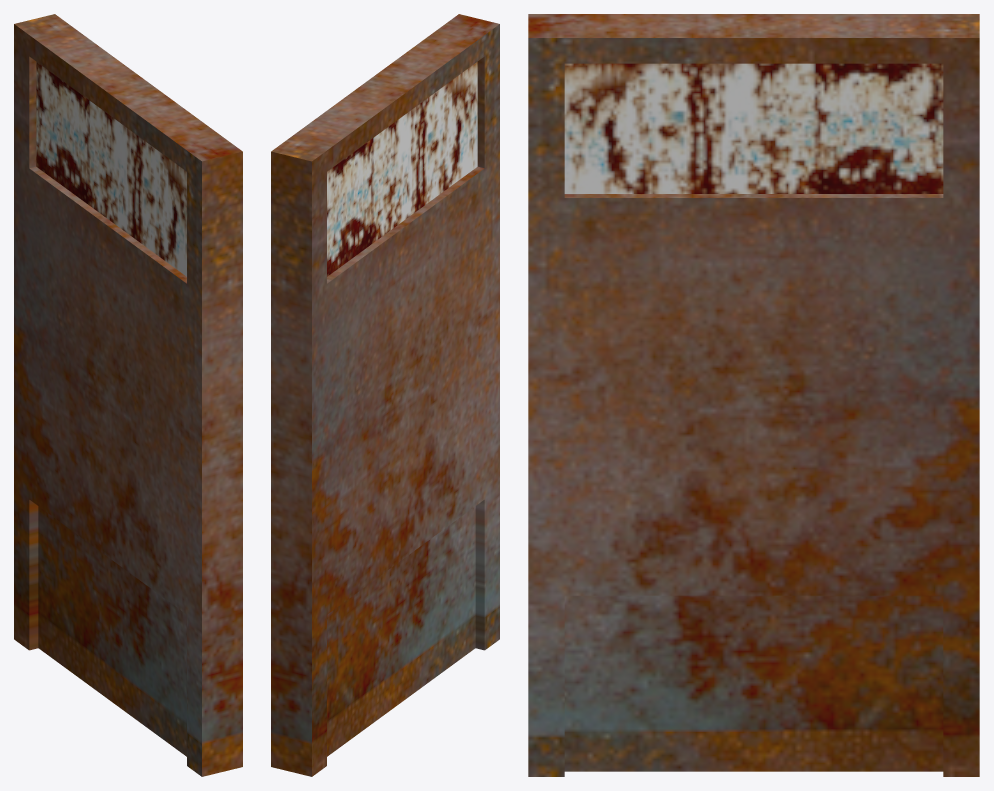
Rendered from door.glb.
The picture shows the model from 3 angles, left to right: view 1: azimuth 30°, elevation 25°; view 2: azimuth 150°, elevation 25°; view 3: azimuth 270°, elevation 25°; orthographic projection. The views are drawn at different scales.
Visible parts, largest first — view 1: door; view 2: door; view 3: door.
Boxes of the visible parts, x1,y1,x2,y2 form: door: [14, 14, 242, 776]; door: [271, 14, 499, 776]; door: [528, 14, 979, 776].
Bounding box in the file's own units: 0.1764 × 2.54 × 1.4.
2 materials, 2 textured.
